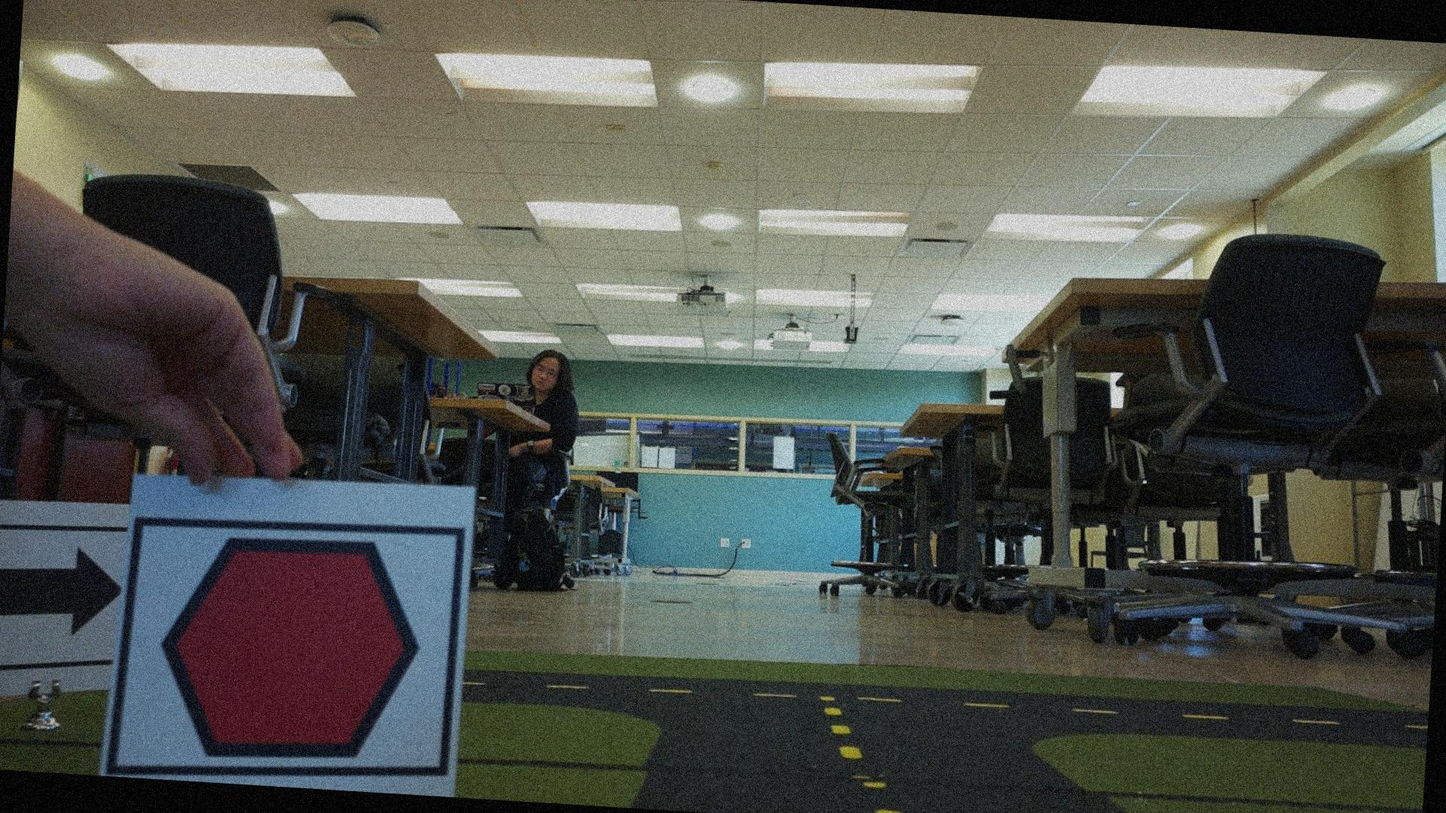stop: (140, 516, 445, 783)
turnright: (0, 530, 123, 662)
yellowline: (819, 705, 915, 812)
